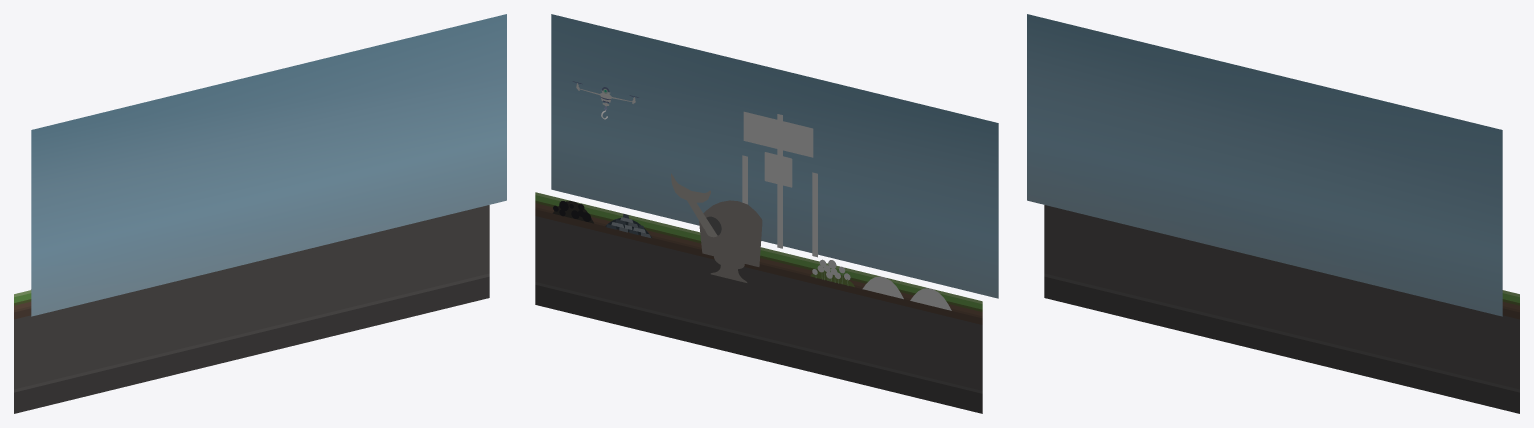
Rendered from MeshExports.fbx.
The picture shows the model from 3 angles, left to right: view 1: azimuth 30°, elevation 25°; view 2: azimuth 150°, elevation 25°; view 3: azimuth 330°, elevation 25°; orthographic projection. The views are drawn at different scales.
Parts seen in each view (by area): view 1: Background_Sky, Background_Underground; view 2: Background_Sky, Background_Underground, Factory, ProductionGoalSign, RawMaterialSign 02, ResourcePile_Cotton, ResourcePile_Plastic, Plane.013, Plane.012, ResourcePile_Metal, Signpost 03, Signpost 02; view 3: Background_Sky, Background_Underground.
Part boxes in pixels (x1,y1,x2,y2): Background_Sky: (31,14,506,316); Background_Underground: (14,205,489,413); Background_Sky: (551,14,998,298); Background_Underground: (535,192,982,413); Factory: (671,173,762,282); ProductionGoalSign: (743,111,813,157); RawMaterialSign 02: (764,152,792,187); ResourcePile_Cotton: (810,259,854,287); ResourcePile_Plastic: (552,201,593,223); Plane.013: (862,276,903,299); Plane.012: (910,288,951,310); ResourcePile_Metal: (605,213,651,237); Signpost 03: (812,172,817,257); Signpost 02: (777,114,782,248); Background_Sky: (1027,14,1502,316); Background_Underground: (1044,205,1519,413).
Bounding box in the file's own units: 1600 × 160 × 953.
